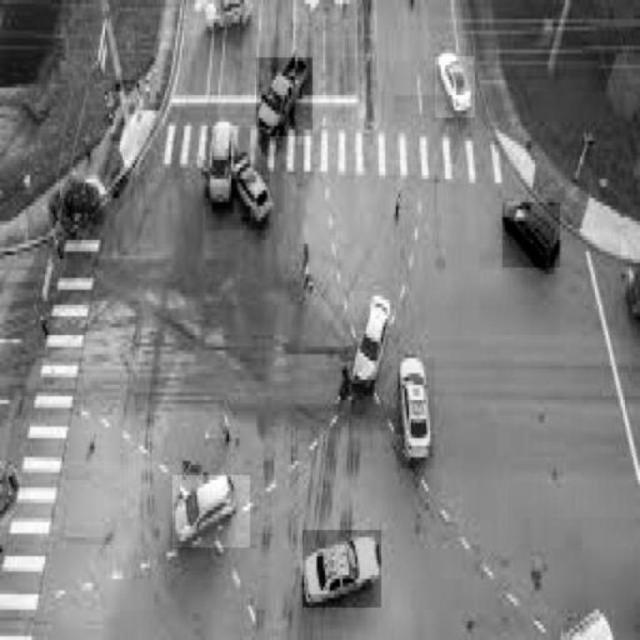accident: (205, 127, 271, 229)
vehicle: (303, 531, 381, 608), (173, 476, 250, 548), (257, 58, 313, 136), (398, 358, 435, 469), (349, 292, 390, 392), (503, 203, 560, 267), (435, 57, 476, 118)
